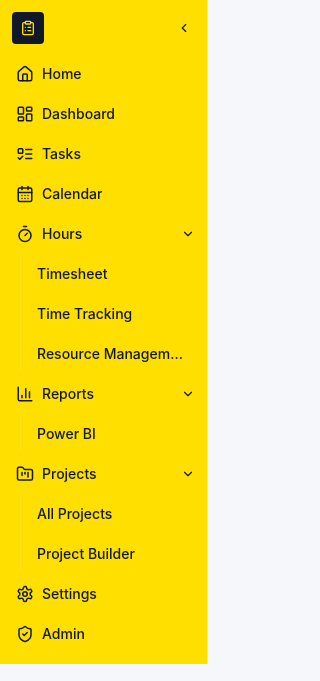
Test: <Sidebar /> (collapsed vs expanded) › toggling the Projects group hides/shows its sub-links
The width and height of the screenshot is (320, 681).
Check: the link "All Projects" is shown, box [37,505,112,522]
Click the button with test id "sidebar-group-toggle-projects".
click(188, 474)  # box [177,463,199,485]
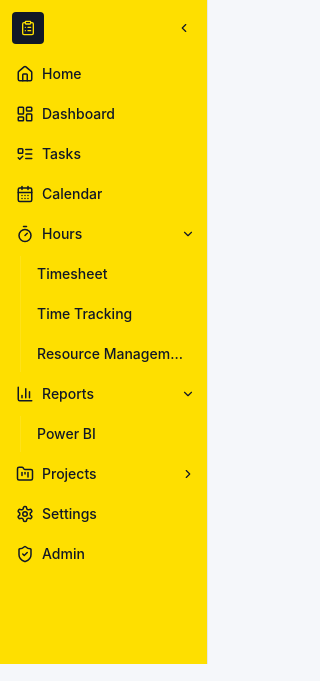
Check: the link "All Projects" is gone
